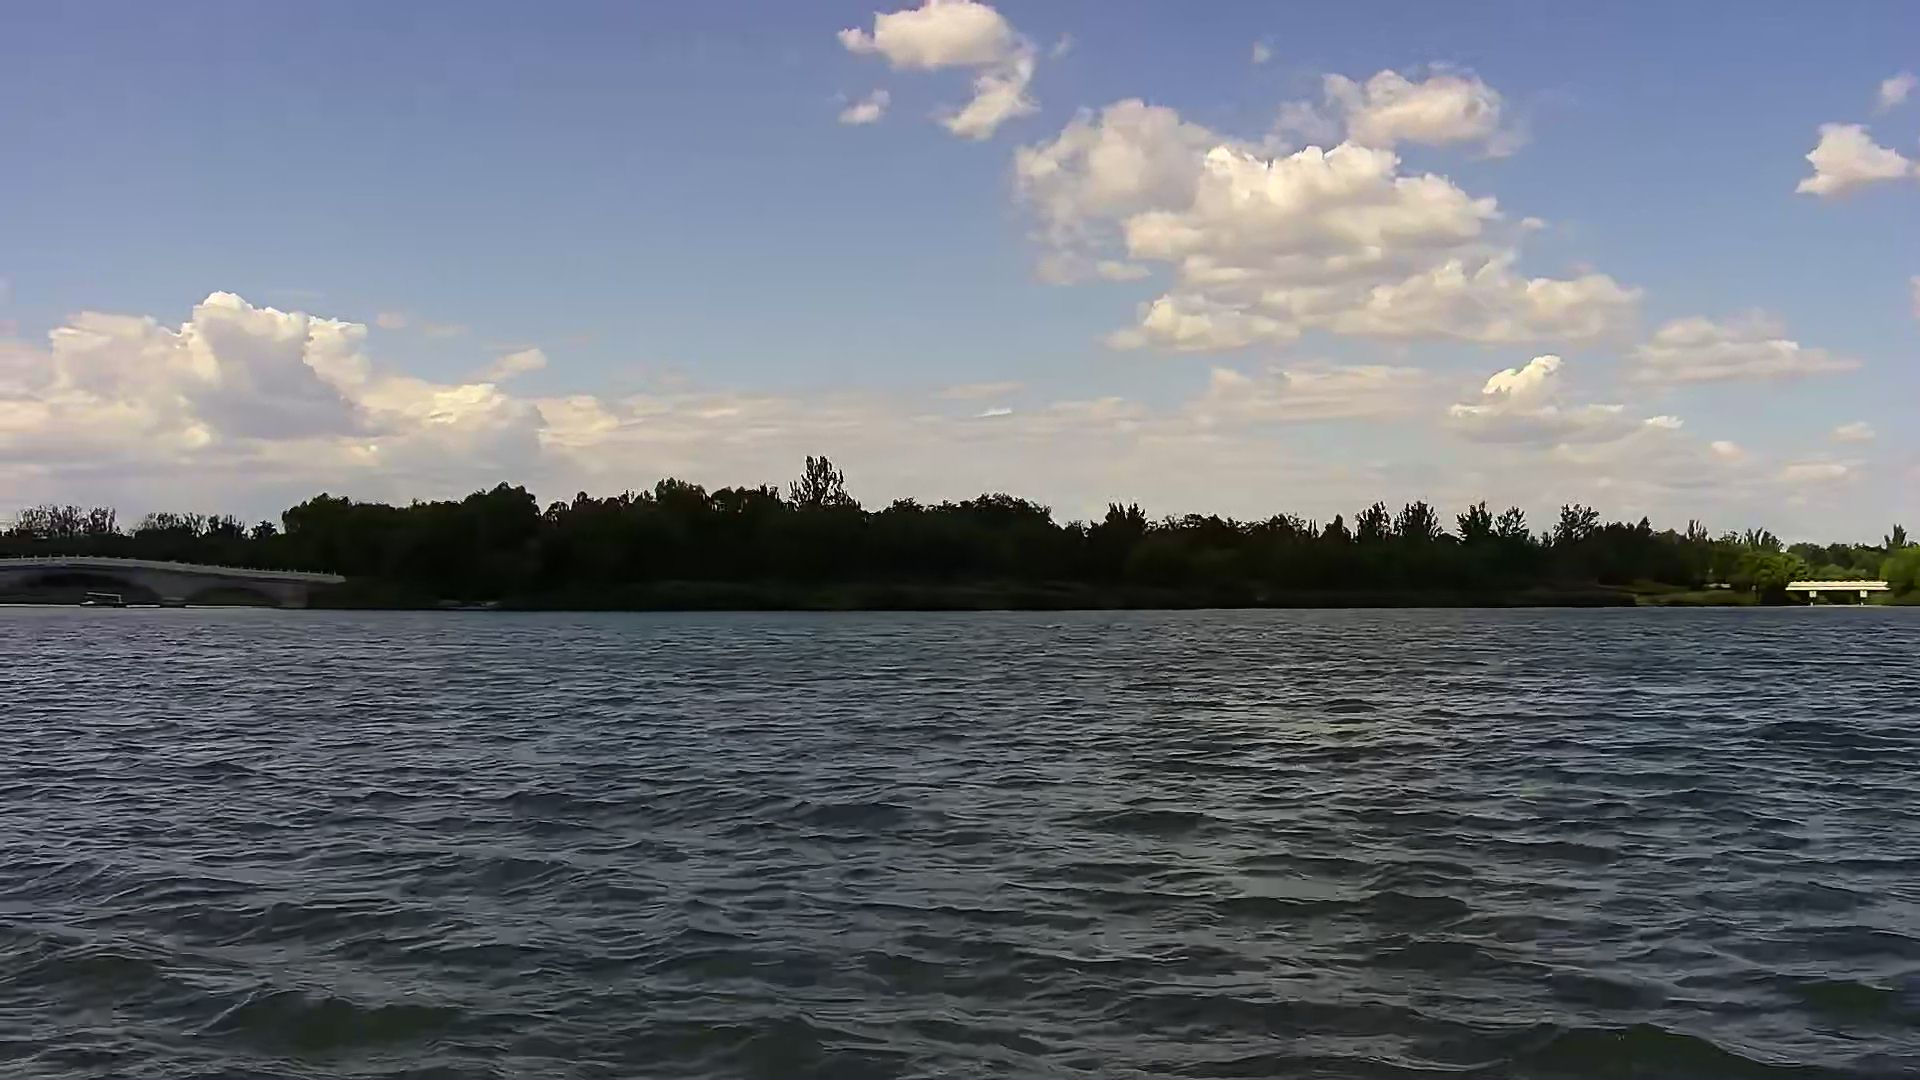bridge: (7, 542, 353, 625), (1783, 568, 1884, 618)
